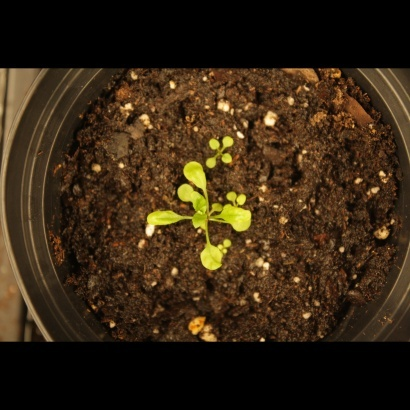leaf: (142, 203, 189, 237), (178, 155, 213, 194), (197, 238, 231, 277), (218, 206, 256, 234), (171, 180, 204, 208), (221, 128, 244, 151), (220, 152, 243, 175), (200, 126, 223, 149), (202, 149, 225, 172), (190, 212, 213, 235), (239, 183, 262, 206), (216, 182, 239, 205)
